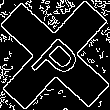P_NE: (24, 24, 86, 86)
